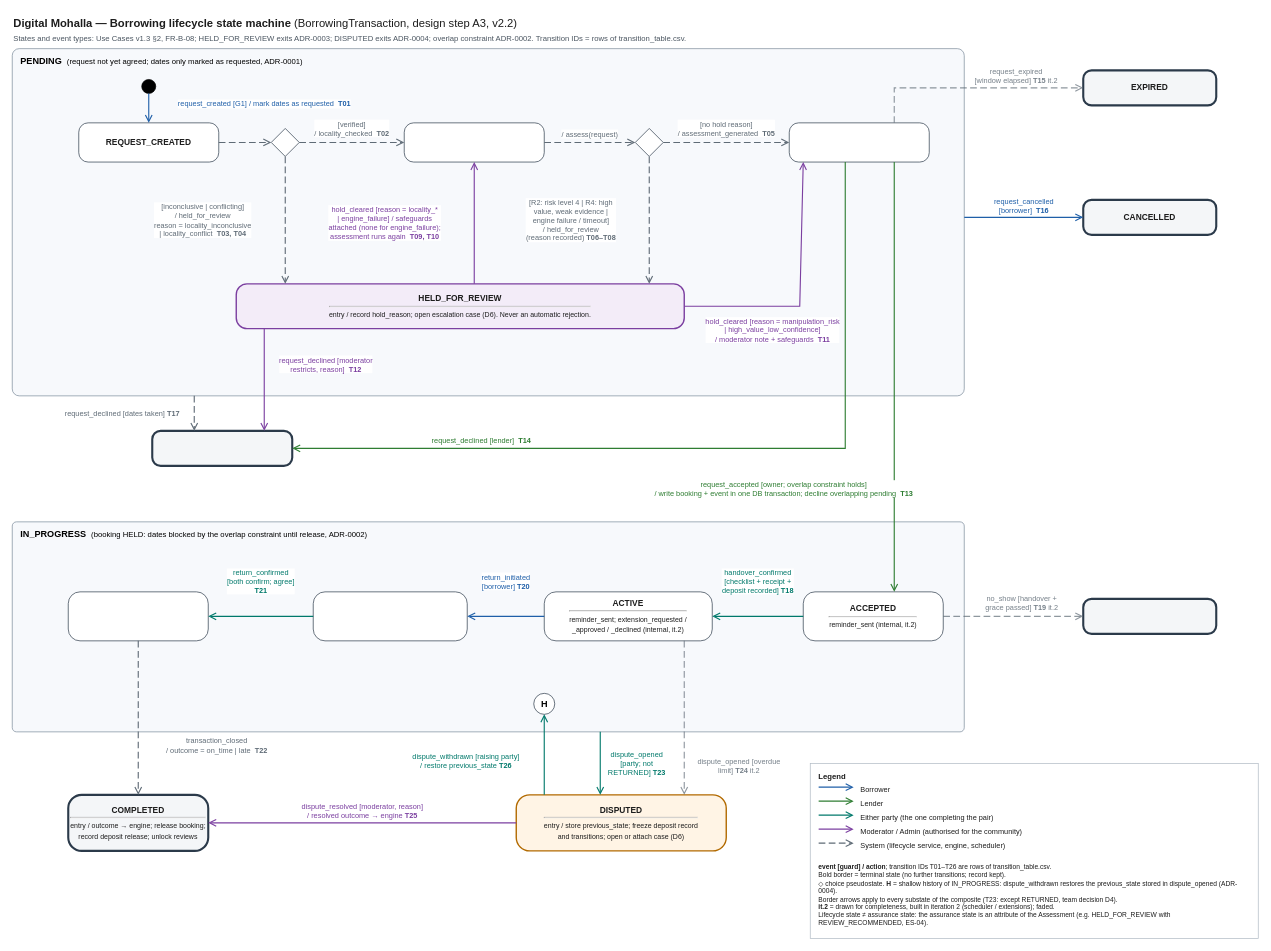
Image size: 1271x951. Some labels were removed from this diagram. The centre of each missing label's shape, as x and y in pixels:
"ASSESSED lender sees assurance state + evidence" goes at (x=859, y=142).
"DECLINED" goes at (x=222, y=448).
"LOCALITY_CHECKED" goes at (x=474, y=142).
"NO_SHOW" goes at (x=1149, y=616).
"RETURN_INITIATED reminder_sent (internal, it.2)" goes at (x=390, y=616).
"RETURNED" goes at (x=138, y=616).
